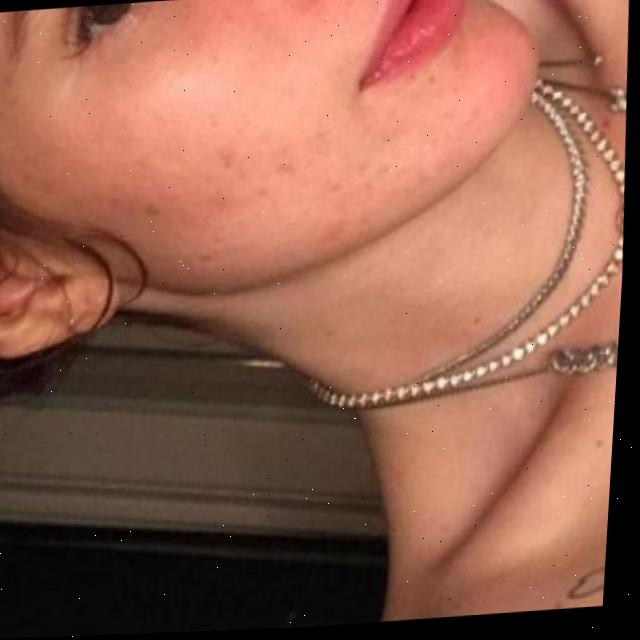Acne: (108, 111, 403, 282)
